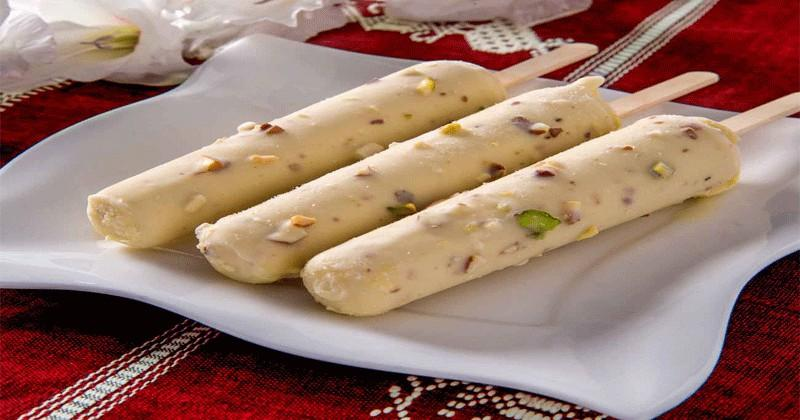Kulfi: (195, 74, 625, 284), (303, 116, 738, 317), (85, 60, 503, 252)
